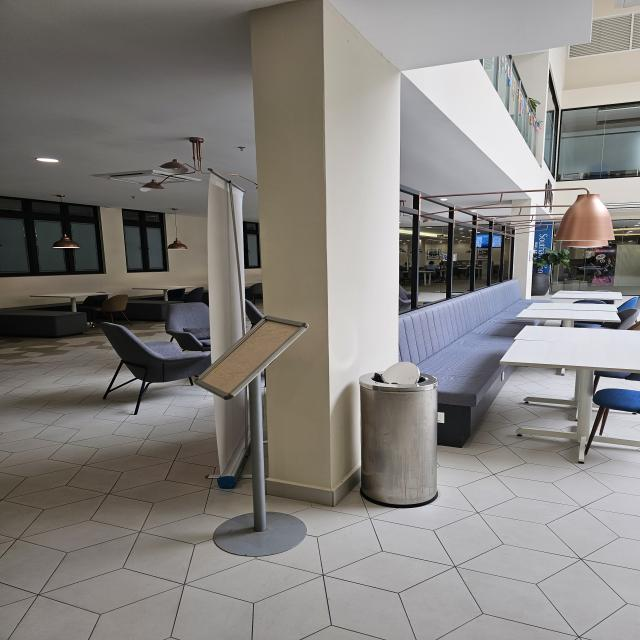footpath: (3, 433, 186, 640), (331, 522, 640, 639)
obstacle: (200, 312, 312, 561), (500, 312, 640, 466), (341, 352, 446, 513), (89, 316, 194, 424)
